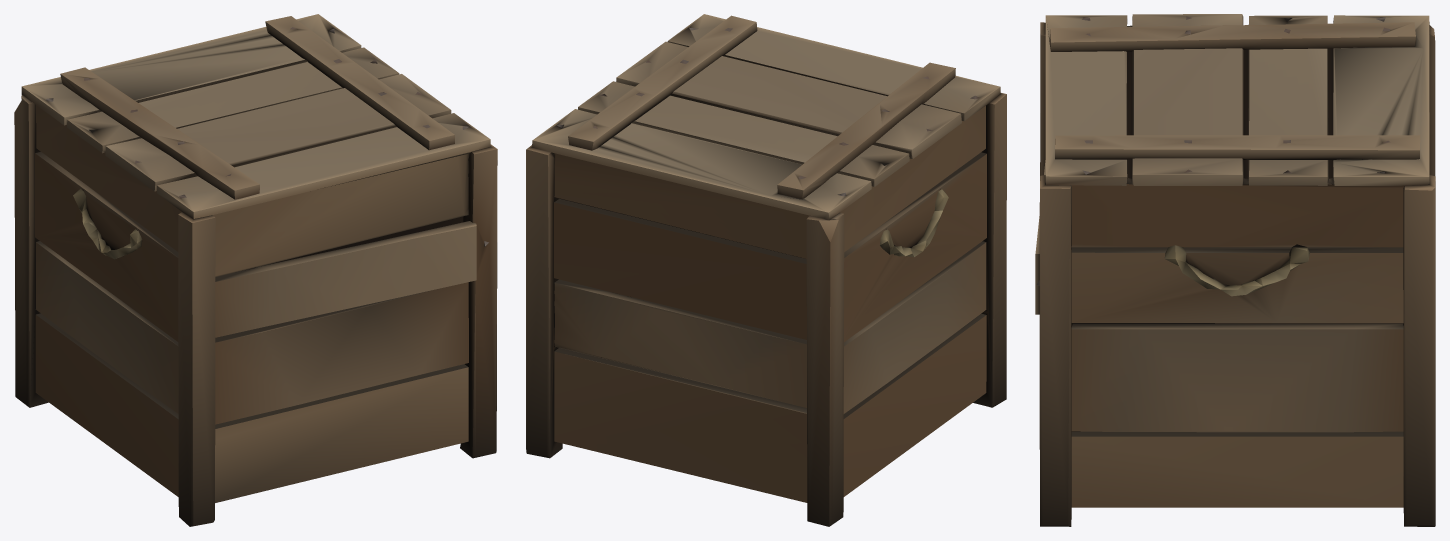
Rendered from crate_a.glb.
3 views of the same model, side by side, from view 1: azimuth 30°, elevation 25°; view 2: azimuth 150°, elevation 25°; view 3: azimuth 270°, elevation 25° (orthographic). The views are drawn at different scales.
Parts seen in each view (by area): view 1: crate_a_LOD0; view 2: crate_a_LOD0; view 3: crate_a_LOD0.
Part boxes in pixels (bbox=[...]): crate_a_LOD0: bbox=[14, 14, 497, 526]; crate_a_LOD0: bbox=[526, 14, 1006, 526]; crate_a_LOD0: bbox=[1035, 14, 1435, 526].
Size of what is drawn, in the model's own units: 0.8061 by 0.8016 by 0.807.
